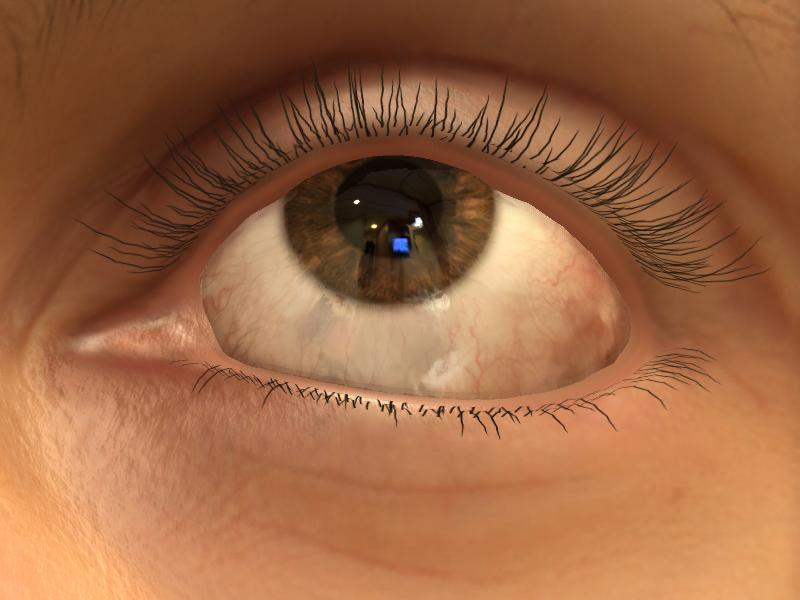eye: (287, 152, 490, 313)
